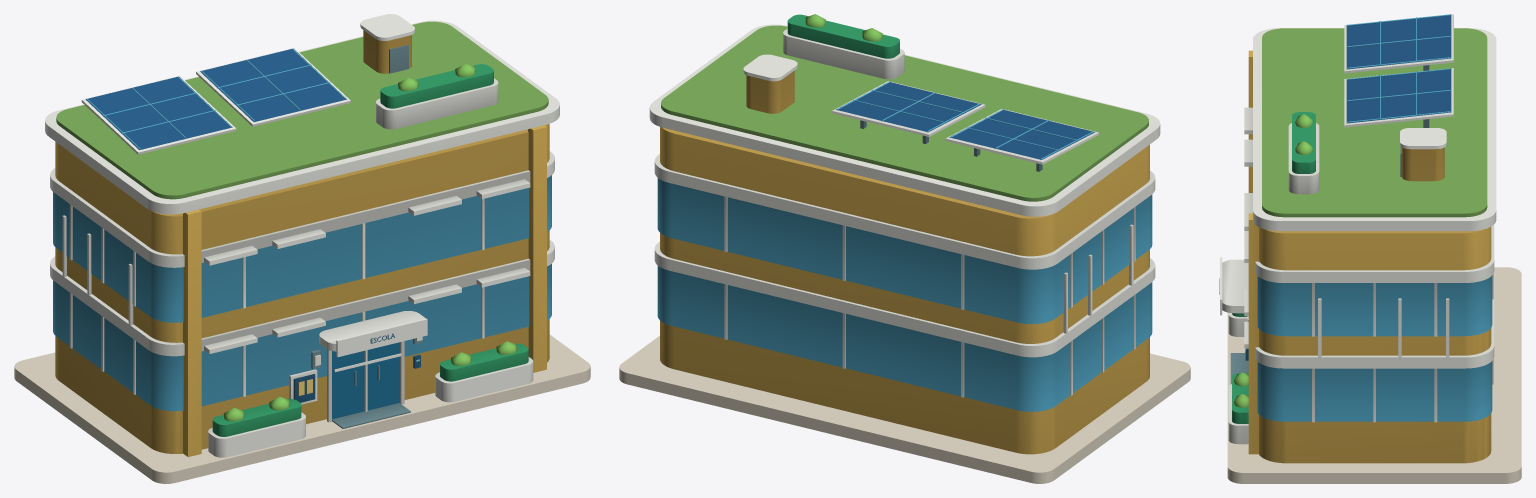
Rendered from school.glb.
3 views of the same model, side by side, from view 1: azimuth 30°, elevation 25°; view 2: azimuth 150°, elevation 25°; view 3: azimuth 270°, elevation 25° (orthographic). The views are drawn at different scales.
Visible parts, largest first — view 1: school warm shell, continuous blue glazing, glass vertical mullion, green roof, school plaza, photovoltaic cells, planter foliage, recessed entrance, roof access hatch, shrub tip, identity ESCOLA; view 2: continuous blue glazing, school warm shell, glass vertical mullion, green roof, school plaza, photovoltaic cells, planter foliage; view 3: green roof, school warm shell, continuous blue glazing, glass vertical mullion, school plaza, photovoltaic cells, planter foliage, shrub tip, roof access hatch.
Part boxes in pixels (x1,y1,x2,y2): school warm shell: [55, 30, 549, 456]; continuous blue glazing: [53, 48, 551, 411]; glass vertical mullion: [45, 14, 559, 457]; green roof: [56, 21, 548, 199]; school plaza: [14, 334, 590, 483]; photovoltaic cells: [85, 48, 346, 150]; planter foliage: [212, 64, 528, 436]; recessed entrance: [332, 342, 399, 419]; roof access hatch: [311, 44, 422, 428]; shrub tip: [223, 63, 516, 421]; identity ESCOLA: [293, 333, 420, 402]; continuous blue glazing: [657, 81, 1152, 411]; school warm shell: [660, 70, 1149, 454]; glass vertical mullion: [649, 24, 1160, 397]; green roof: [661, 25, 1148, 201]; school plaza: [619, 336, 1190, 483]; photovoltaic cells: [836, 82, 1094, 159]; planter foliage: [787, 14, 899, 58]; green roof: [1262, 28, 1487, 217]; school warm shell: [1248, 50, 1491, 463]; continuous blue glazing: [1257, 14, 1492, 421]; glass vertical mullion: [1220, 14, 1496, 444]; school plaza: [1227, 267, 1521, 483]; photovoltaic cells: [1346, 14, 1451, 123]; planter foliage: [1232, 112, 1315, 423]; shrub tip: [1234, 114, 1312, 407]; roof access hatch: [1230, 65, 1429, 384].
Bounding box in the file's own units: 4.8 × 3.26 × 2.98.
